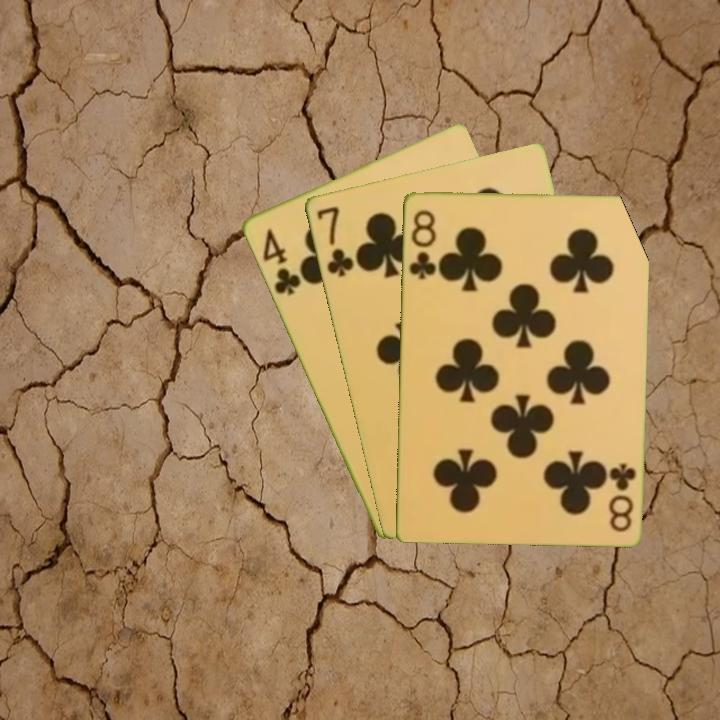4c: (258, 225, 304, 298)
7c: (312, 202, 357, 280)
8c: (405, 205, 439, 283), (605, 459, 639, 534)
